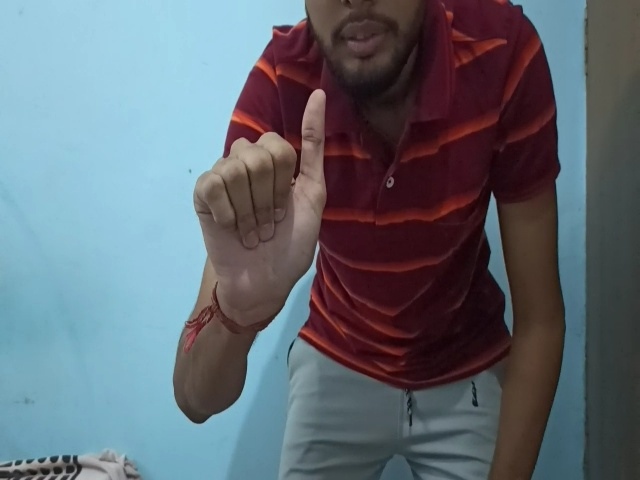A: (192, 89, 329, 313)
